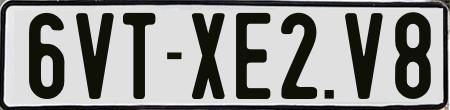2: (281, 11, 319, 99)
6: (27, 11, 63, 102)
8: (393, 9, 431, 101)
E: (233, 10, 272, 99)
T: (123, 11, 157, 98)
V: (73, 11, 113, 101), (344, 10, 383, 96)
X: (191, 12, 226, 104)
